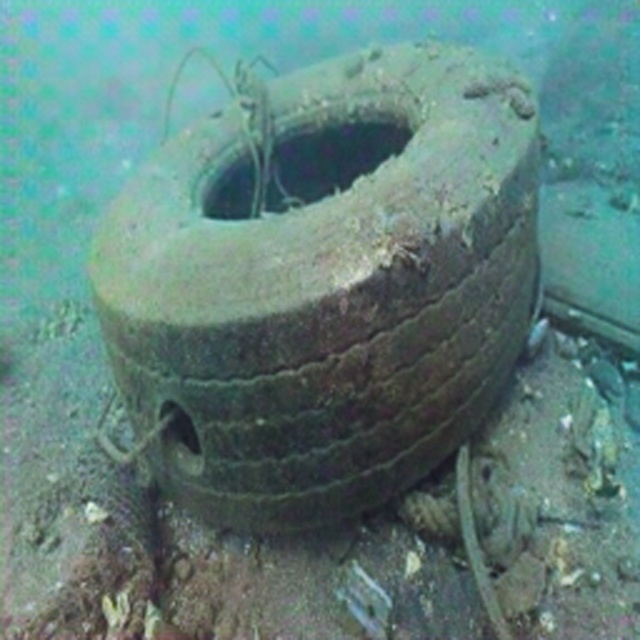mine: (91, 42, 540, 538), (68, 426, 158, 558)
